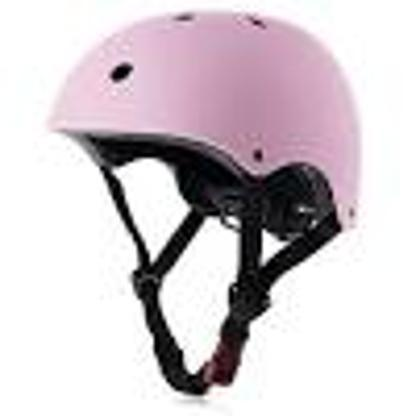not trash: (43, 7, 364, 399)
